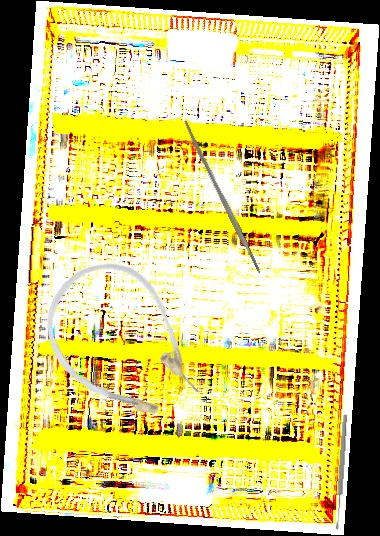Cannula: (21, 240, 225, 450)
Scalpel Handle: (181, 118, 263, 277)
Surgical Spoon: (333, 413, 349, 531)
